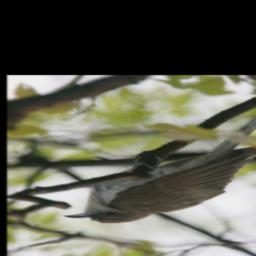Cuckoo: (65, 98, 256, 224)
